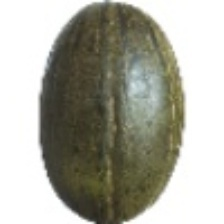honeydew: (0, 5, 182, 199)
